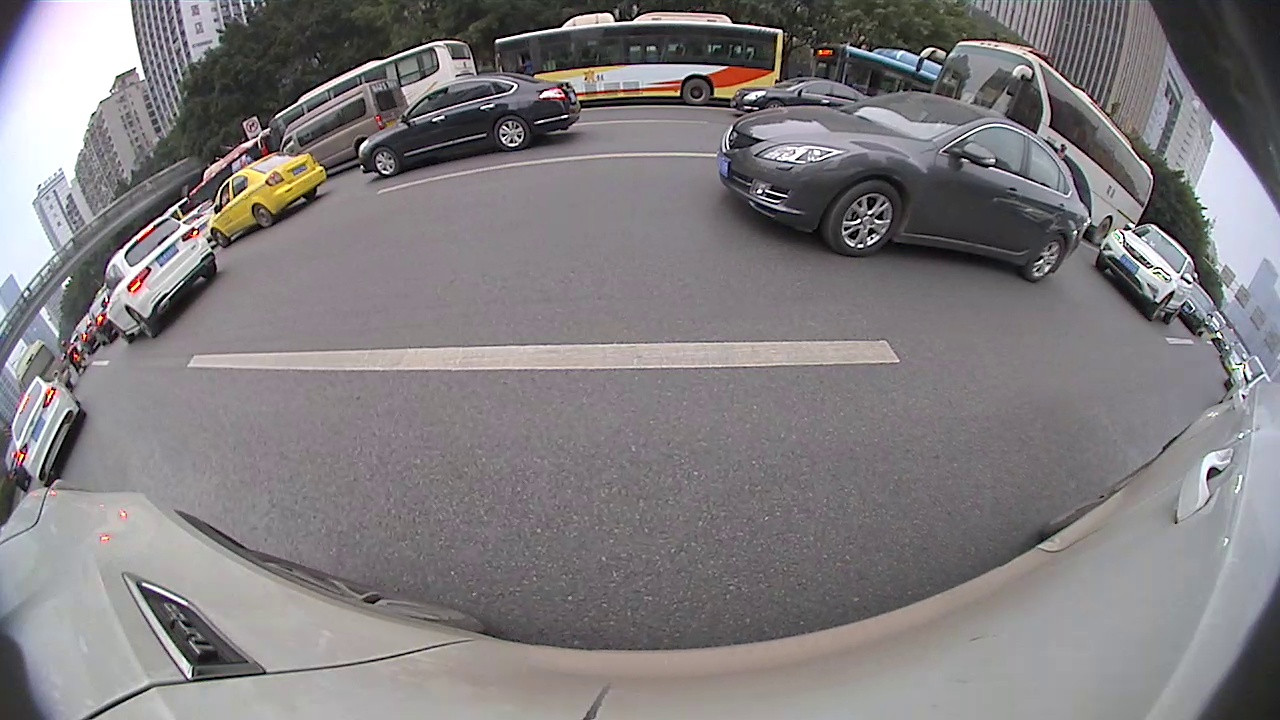bus: (914, 38, 1154, 247), (494, 12, 783, 106), (256, 38, 476, 155), (811, 43, 953, 96), (10, 336, 72, 400)
car: (716, 90, 1086, 284), (357, 70, 581, 179), (99, 211, 218, 343), (278, 76, 410, 169), (207, 148, 329, 248), (1092, 220, 1198, 325), (7, 372, 88, 486), (733, 77, 868, 120), (85, 284, 123, 345), (1181, 283, 1214, 340), (177, 198, 218, 243), (4, 442, 35, 492)
front: (821, 179, 901, 256), (371, 147, 398, 176), (1146, 292, 1174, 319), (108, 319, 134, 341), (212, 228, 230, 247)
rear: (1024, 237, 1065, 282), (494, 118, 531, 152), (125, 306, 157, 337), (682, 79, 711, 106), (1093, 215, 1113, 244), (1163, 302, 1186, 322), (254, 205, 273, 226)
rider: (59, 339, 87, 373)
